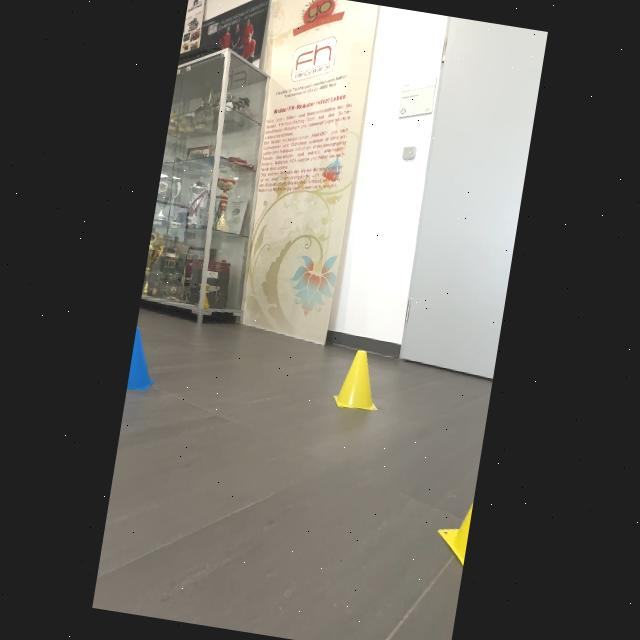yellow_cone: (326, 334, 394, 422)
